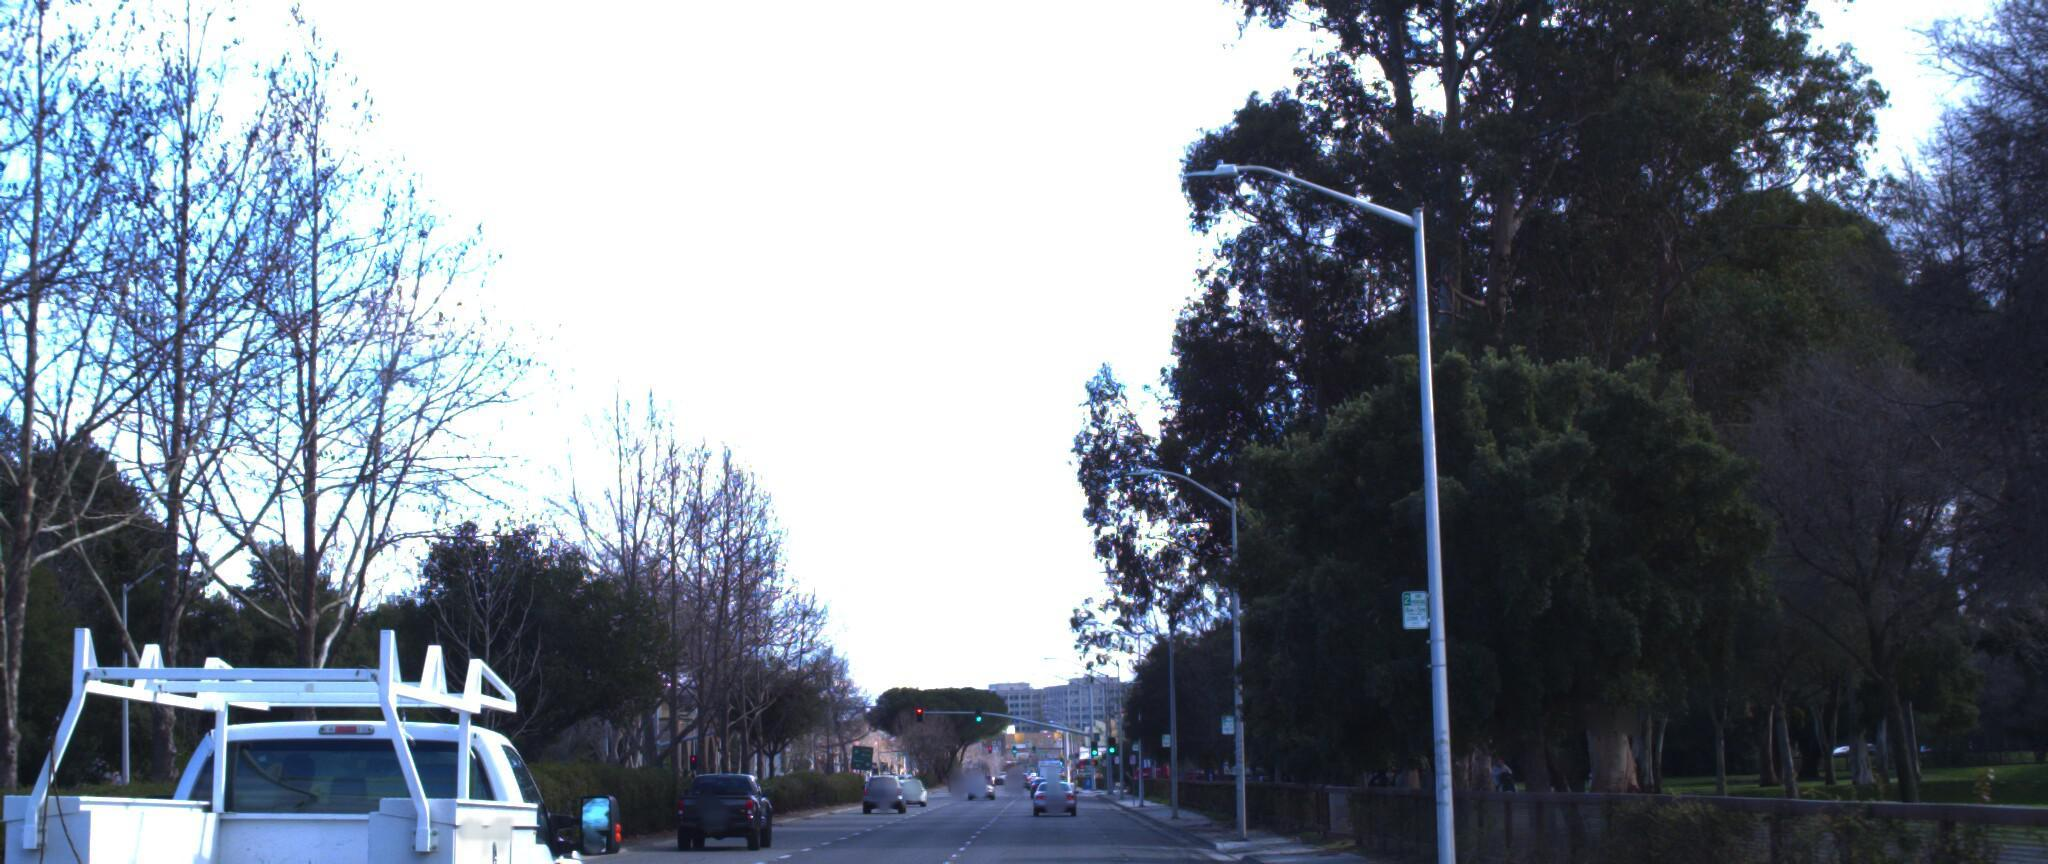car: (0, 593, 620, 864), (683, 762, 785, 844)
